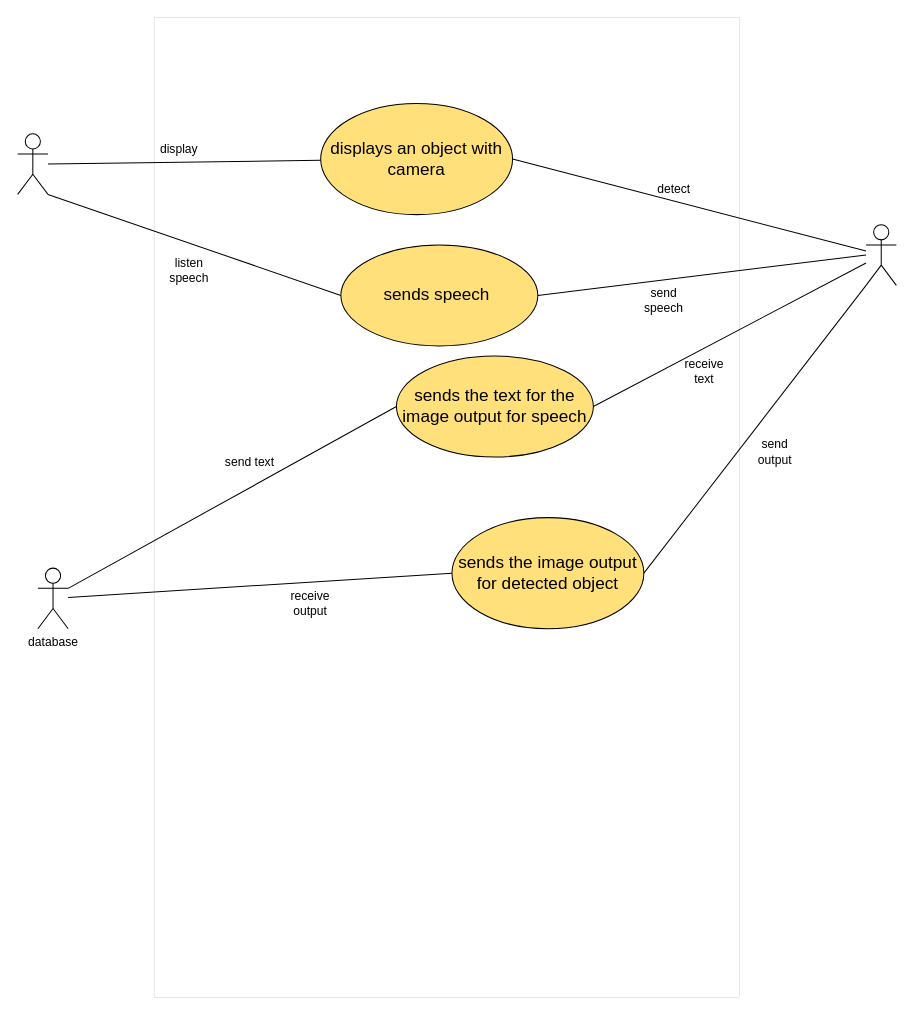
This 915x1014 diagram has some shape labels left out. The centre of each missing label's shape, as x and y in pixels:
server: point (880, 254)
User: point (32, 163)
